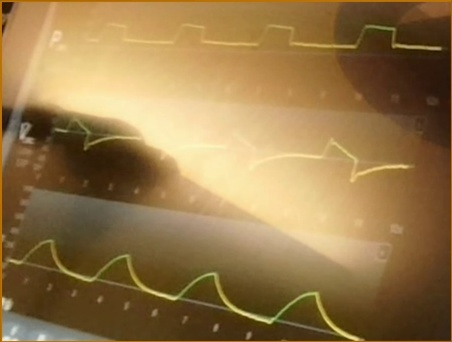Normal Flow: (57, 109, 413, 187)
Normal Volume: (10, 238, 366, 340)
